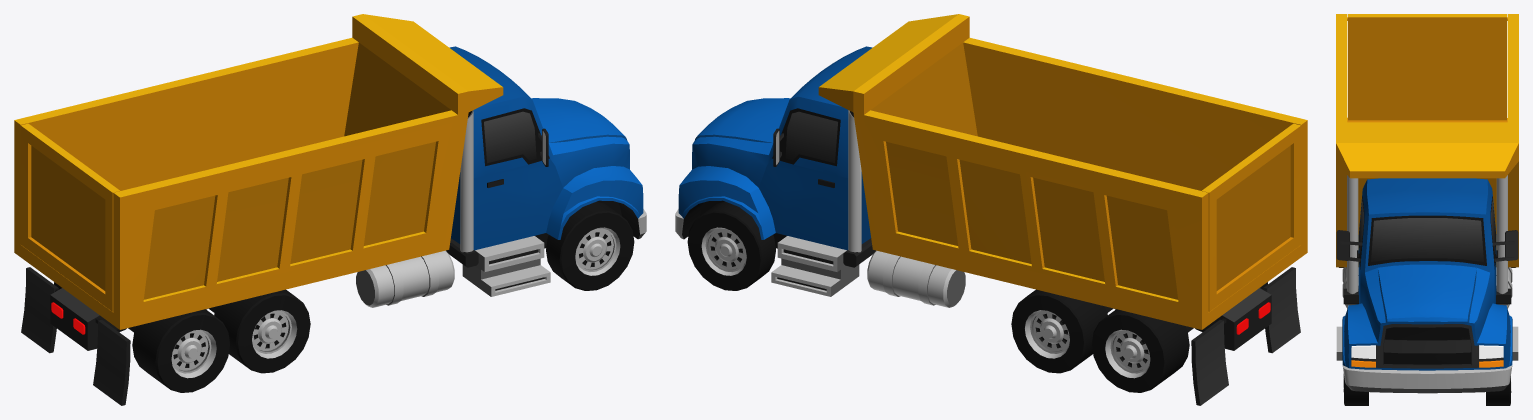
File: Construction_005.glb
3 views of the same model, side by side, from view 1: azimuth 30°, elevation 25°; view 2: azimuth 150°, elevation 25°; view 3: azimuth 270°, elevation 25° (orthographic). The views are drawn at different scales.
Visible parts, largest first — view 1: Construction_005, wheel_5_Construction_005_Wheel_3R, wheel_3_Construction_005_Wheel_2R, wheel_1_Construction_005_Wheel_1R; view 2: Construction_005, wheel_4_Construction_005_Wheel_3L, wheel_2_Construction_005_Wheel_2L, wheel_0_Construction_005_Wheel_1L; view 3: Construction_005, wheel_1_Construction_005_Wheel_1R, wheel_0_Construction_005_Wheel_1L.
Part boxes in pixels (left/top/right/bottom): Construction_005: left=14, top=14, right=646, bottom=405; wheel_5_Construction_005_Wheel_3R: left=132, top=309, right=230, bottom=392; wheel_3_Construction_005_Wheel_2R: left=214, top=289, right=310, bottom=373; wheel_1_Construction_005_Wheel_1R: left=546, top=201, right=634, bottom=290; Construction_005: left=675, top=14, right=1307, bottom=405; wheel_4_Construction_005_Wheel_3L: left=1091, top=309, right=1189, bottom=392; wheel_2_Construction_005_Wheel_2L: left=1011, top=289, right=1107, bottom=373; wheel_0_Construction_005_Wheel_1L: left=687, top=201, right=775, bottom=290; Construction_005: left=1336, top=14, right=1518, bottom=393; wheel_1_Construction_005_Wheel_1R: left=1343, top=374, right=1368, bottom=405; wheel_0_Construction_005_Wheel_1L: left=1486, top=376, right=1511, bottom=405.
Bounding box in the file's own units: 6.99 × 2.89 × 2.36.
2 materials, 2 textured.
